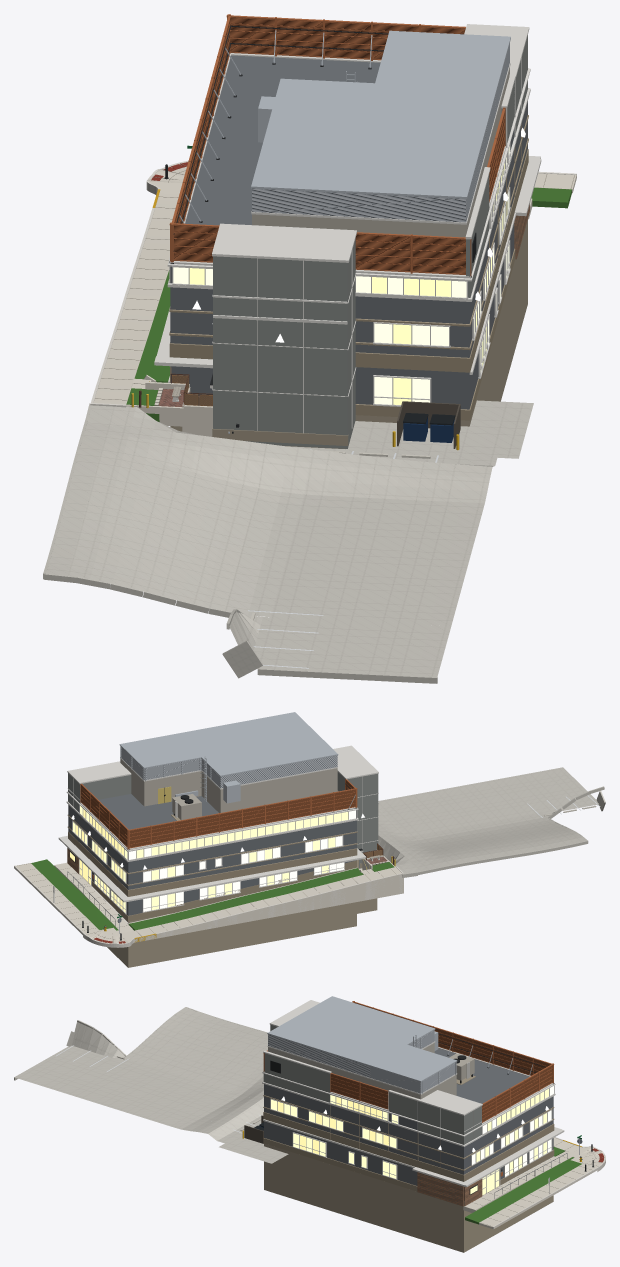
The model's file is building-316.glb.
3 views of the same model, one above another, from view 1: azimuth 30°, elevation 25°; view 2: azimuth 150°, elevation 25°; view 3: azimuth 270°, elevation 25° (orthographic). The views are drawn at different scales.
Visible parts, largest first — view 1: node_61, node_19, node_13, node_22, Layer2_3_4_MainPrecastBody, Layer4_OpenRoofCourtDeck, node_11, node_55, node_1, node_71, node_25, node_62 (+16 smaller); view 2: node_61, node_19, Layer2_3_4_MainPrecastBody, node_55, node_24, node_22, node_69, node_8, node_71, node_11, node_13, node_7 (+13 smaller); view 3: node_61, node_19, Layer2_3_4_MainPrecastBody, node_70, node_71, node_69, node_13, node_22, node_11, node_30, node_25, node_7 (+12 smaller).
Boxes of the visible parts, x1,y1,x2,y2 form: node_61: (46, 400, 533, 676); node_19: (179, 30, 510, 433); node_13: (213, 35, 527, 448); node_22: (174, 17, 504, 273); Layer2_3_4_MainPrecastBody: (170, 101, 527, 409); Layer4_OpenRoofCourtDeck: (185, 55, 380, 225); node_11: (169, 24, 529, 433); node_55: (93, 162, 187, 404); node_1: (169, 14, 505, 276); node_71: (169, 115, 528, 420); node_25: (252, 43, 509, 222); node_62: (43, 403, 437, 683); node_61: (378, 767, 598, 873); node_19: (53, 712, 355, 933); Layer2_3_4_MainPrecastBody: (68, 805, 356, 915); node_55: (84, 867, 403, 943); node_24: (120, 759, 337, 820); node_22: (81, 780, 355, 847); node_69: (107, 898, 377, 967); node_8: (75, 809, 348, 909); node_71: (67, 815, 357, 920); node_11: (53, 745, 379, 893); node_13: (68, 772, 378, 868); node_7: (72, 805, 357, 914); node_61: (15, 1007, 288, 1163); node_19: (267, 996, 579, 1193); Layer2_3_4_MainPrecastBody: (264, 1084, 553, 1185); node_70: (264, 1143, 553, 1235); node_71: (263, 1095, 554, 1205); node_69: (264, 1173, 553, 1252); node_13: (263, 1024, 481, 1144); node_22: (331, 1003, 552, 1122); node_11: (263, 1000, 553, 1184); node_30: (463, 1151, 597, 1229); node_25: (268, 1030, 456, 1093); node_7: (263, 1081, 554, 1188).
Size of the model in its own units: 61.28 by 22.54 by 74.66.
Materials: 47 (9 with a texture image).
